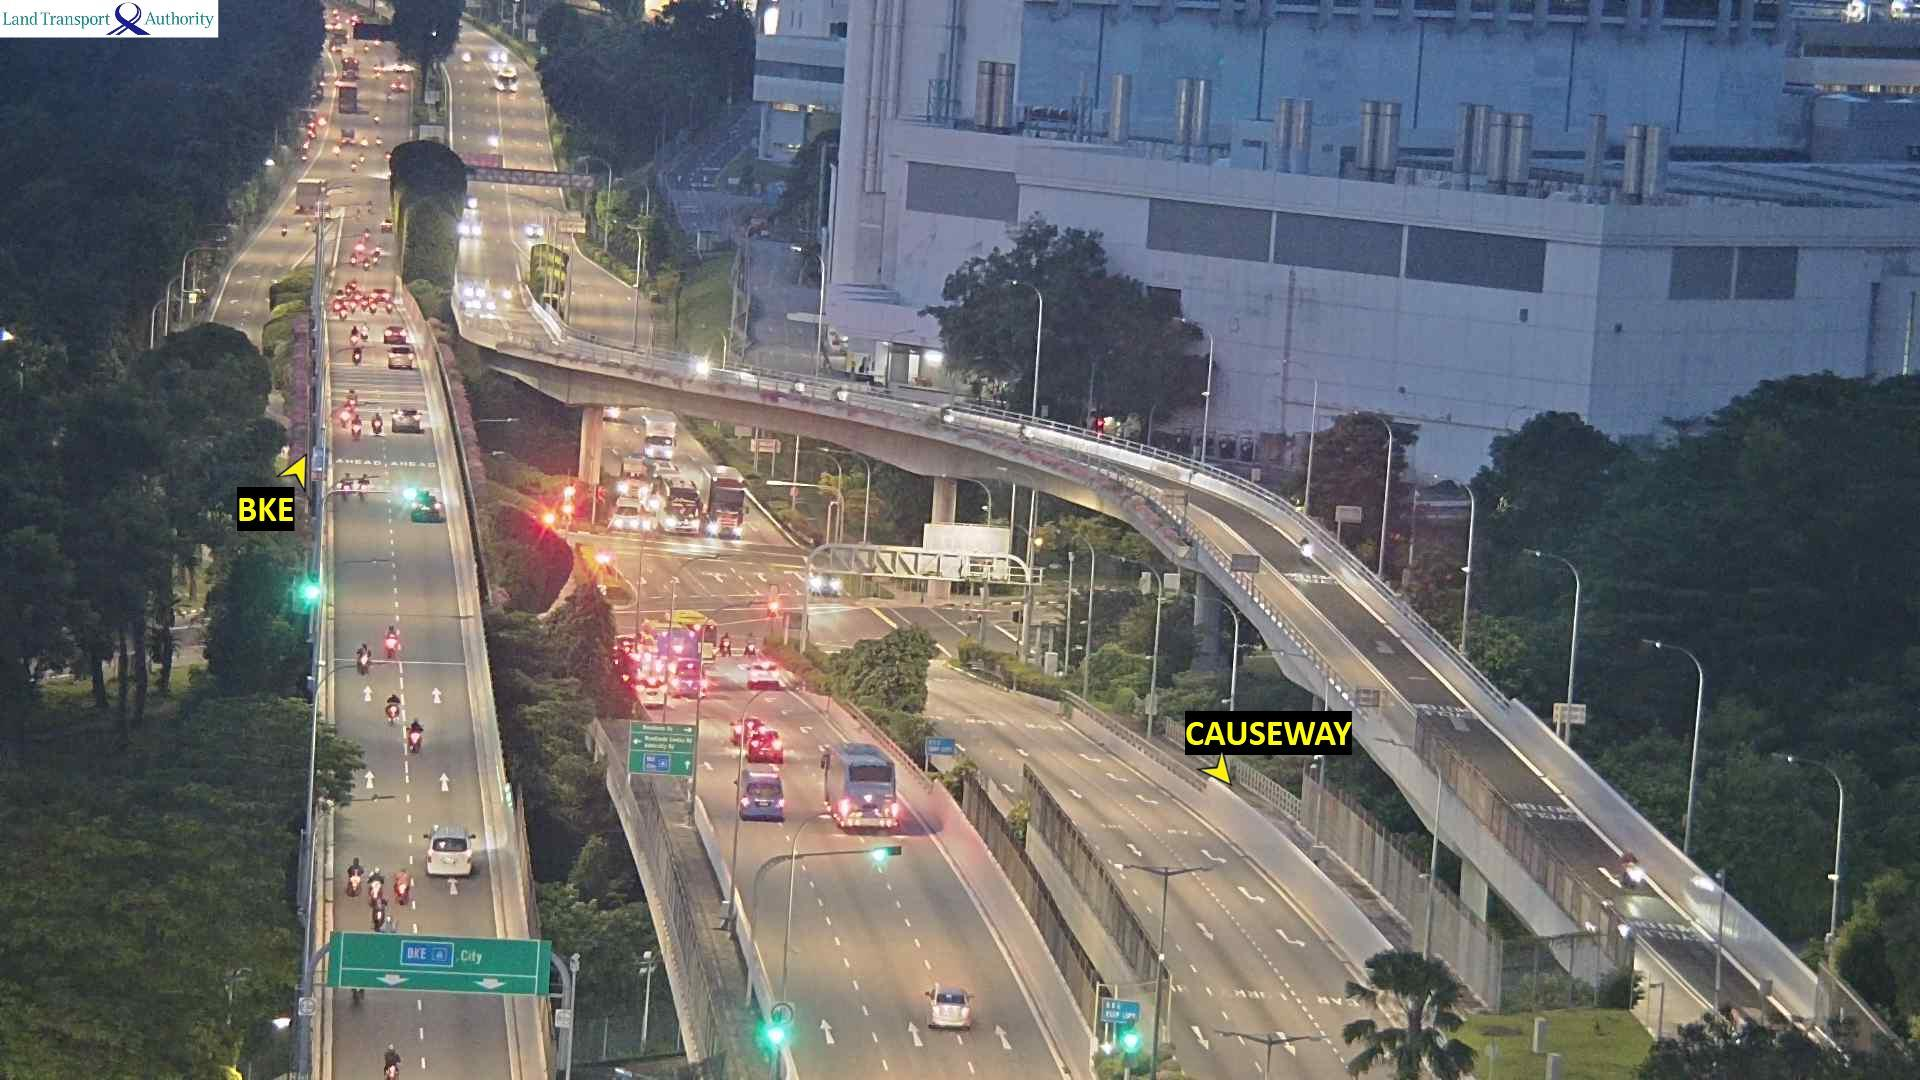vehicle-causeway-johor: (465, 302, 496, 315), (464, 285, 487, 302), (1299, 537, 1312, 564), (1018, 423, 1034, 443), (833, 385, 847, 404), (790, 378, 806, 392), (939, 410, 952, 423)
vehicle-causeway-singapore: (827, 740, 898, 819), (644, 617, 719, 661), (737, 767, 789, 818), (927, 986, 975, 1030), (736, 729, 789, 766), (836, 804, 898, 833), (665, 662, 715, 696), (737, 799, 793, 824), (426, 829, 476, 856), (746, 661, 787, 690), (398, 409, 423, 434), (413, 495, 438, 520), (396, 869, 411, 903), (385, 1051, 402, 1080), (348, 857, 361, 893), (389, 334, 406, 355), (373, 897, 385, 923), (369, 868, 380, 897), (389, 624, 401, 649), (393, 695, 404, 721), (388, 327, 404, 344), (414, 720, 423, 745), (360, 644, 368, 673), (353, 986, 364, 1006), (351, 415, 360, 436), (357, 334, 371, 348), (342, 479, 353, 493), (373, 414, 382, 433)
